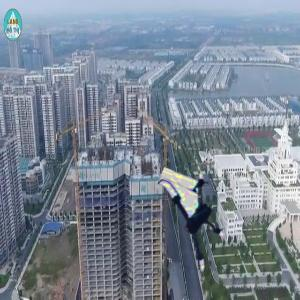drone: (147, 175, 243, 271)
